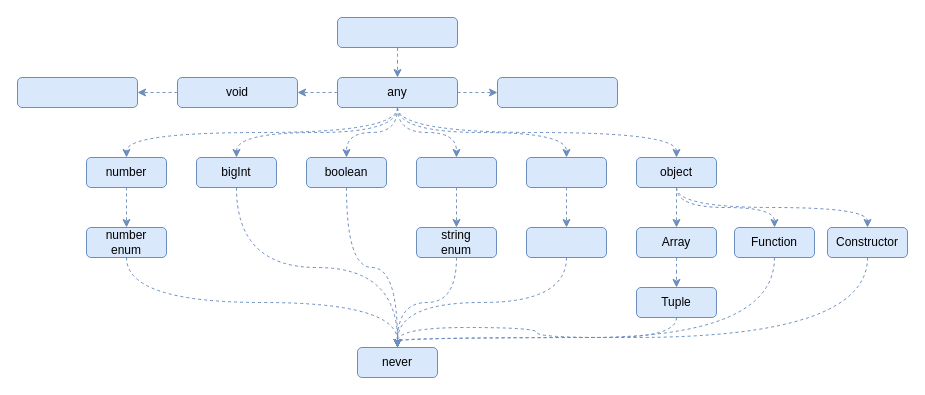
This 925x395 diagram has some shape labels left out. Each missing label, with the centre of its shape:
"null" belongs at [557,92].
"string" belongs at [456,172].
"symbol" belongs at [566,172].
"undefined" belongs at [77,92].
"unique enum" belongs at [566,242].
"unknown" belongs at [397,32].
